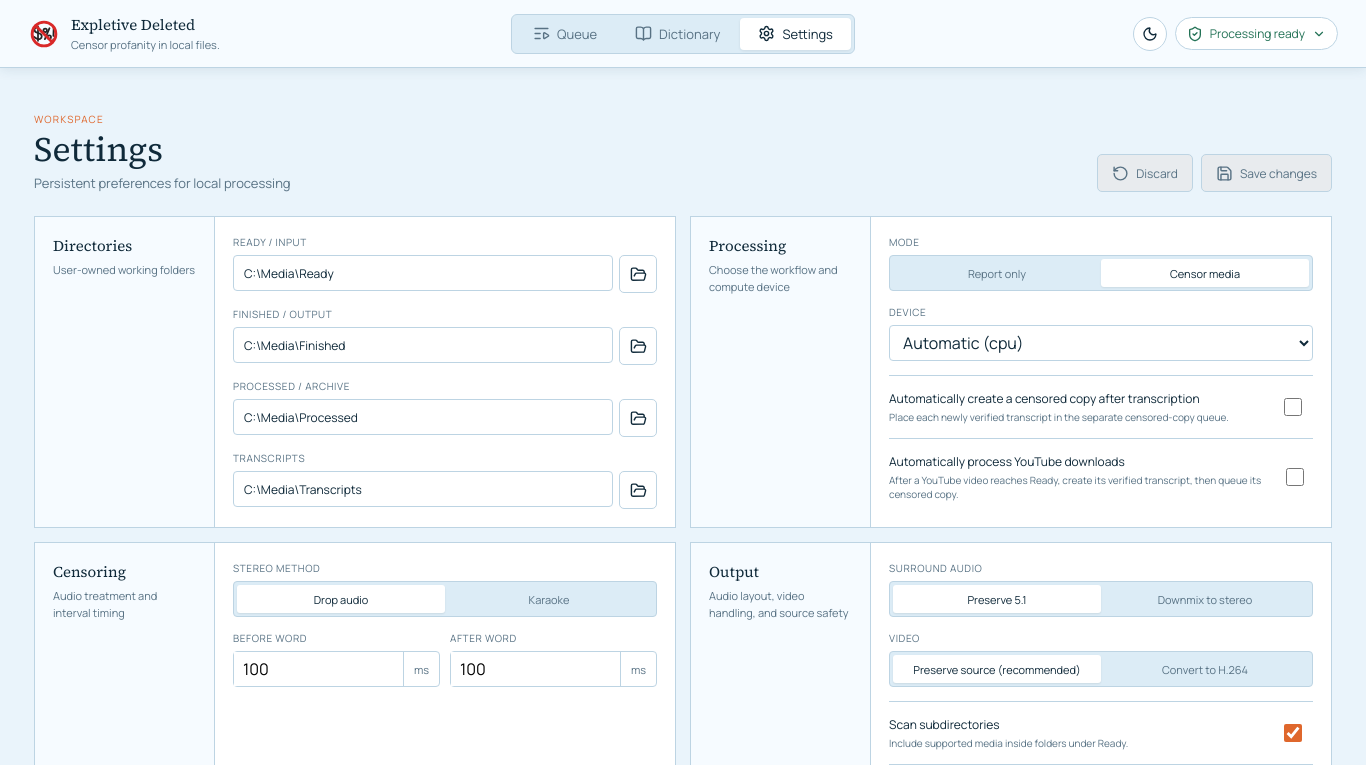
Test: desktop application renderer › retains the draft and reports an error when saving fails
Click the button "Karaoke" at (549, 599), box [445,585,653,613]
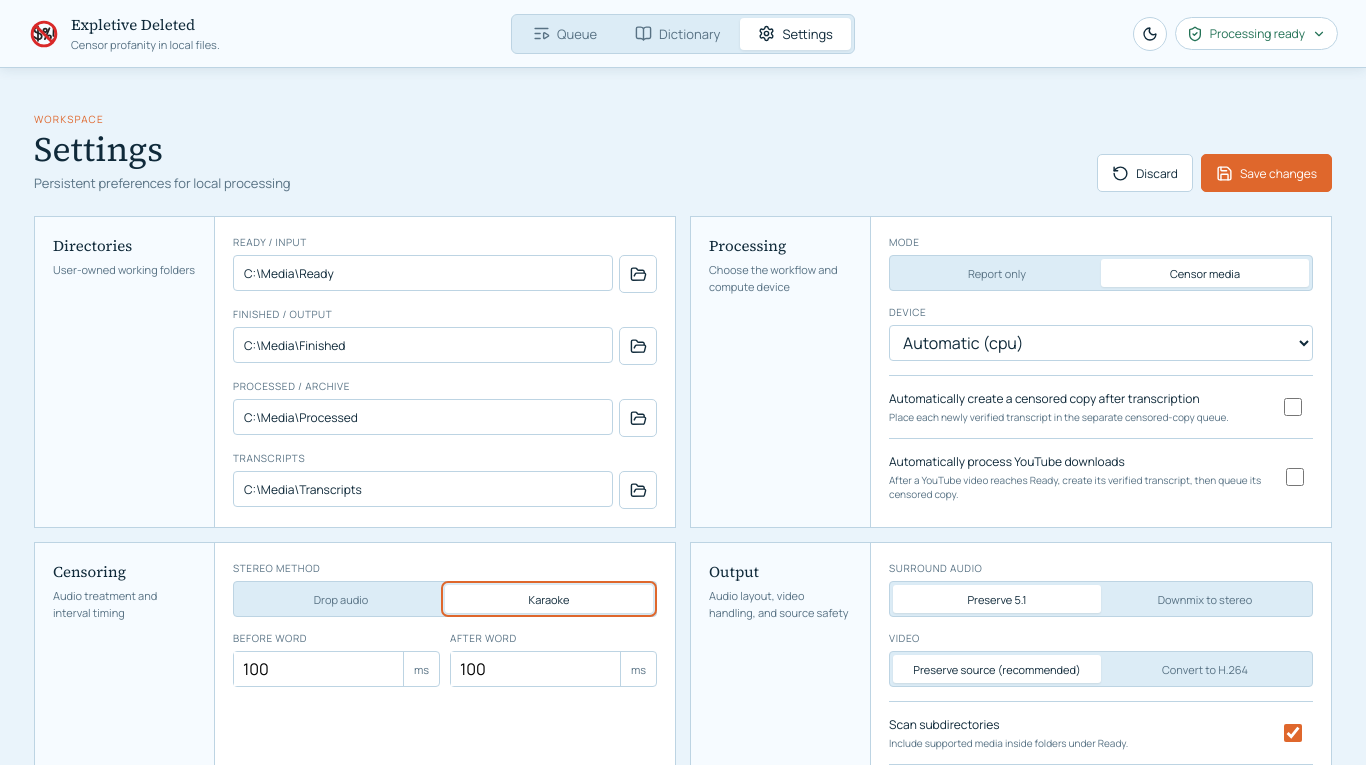
Click the button "Save changes" at (1266, 173), box [1201,154,1332,192]
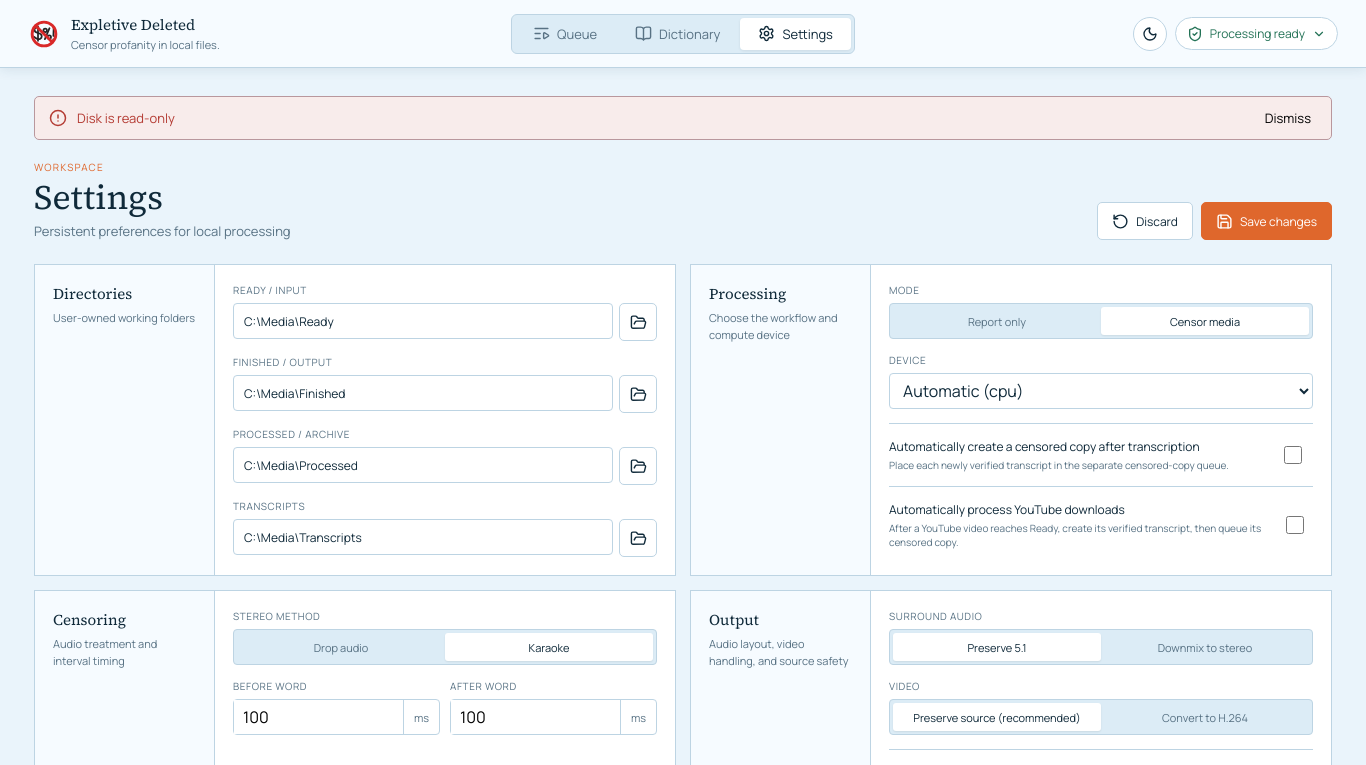
Expected: the button "Save changes" is enabled, [1201,202,1332,240]
Expected: the message shows "Disk is read-only", [77,109,175,127]
